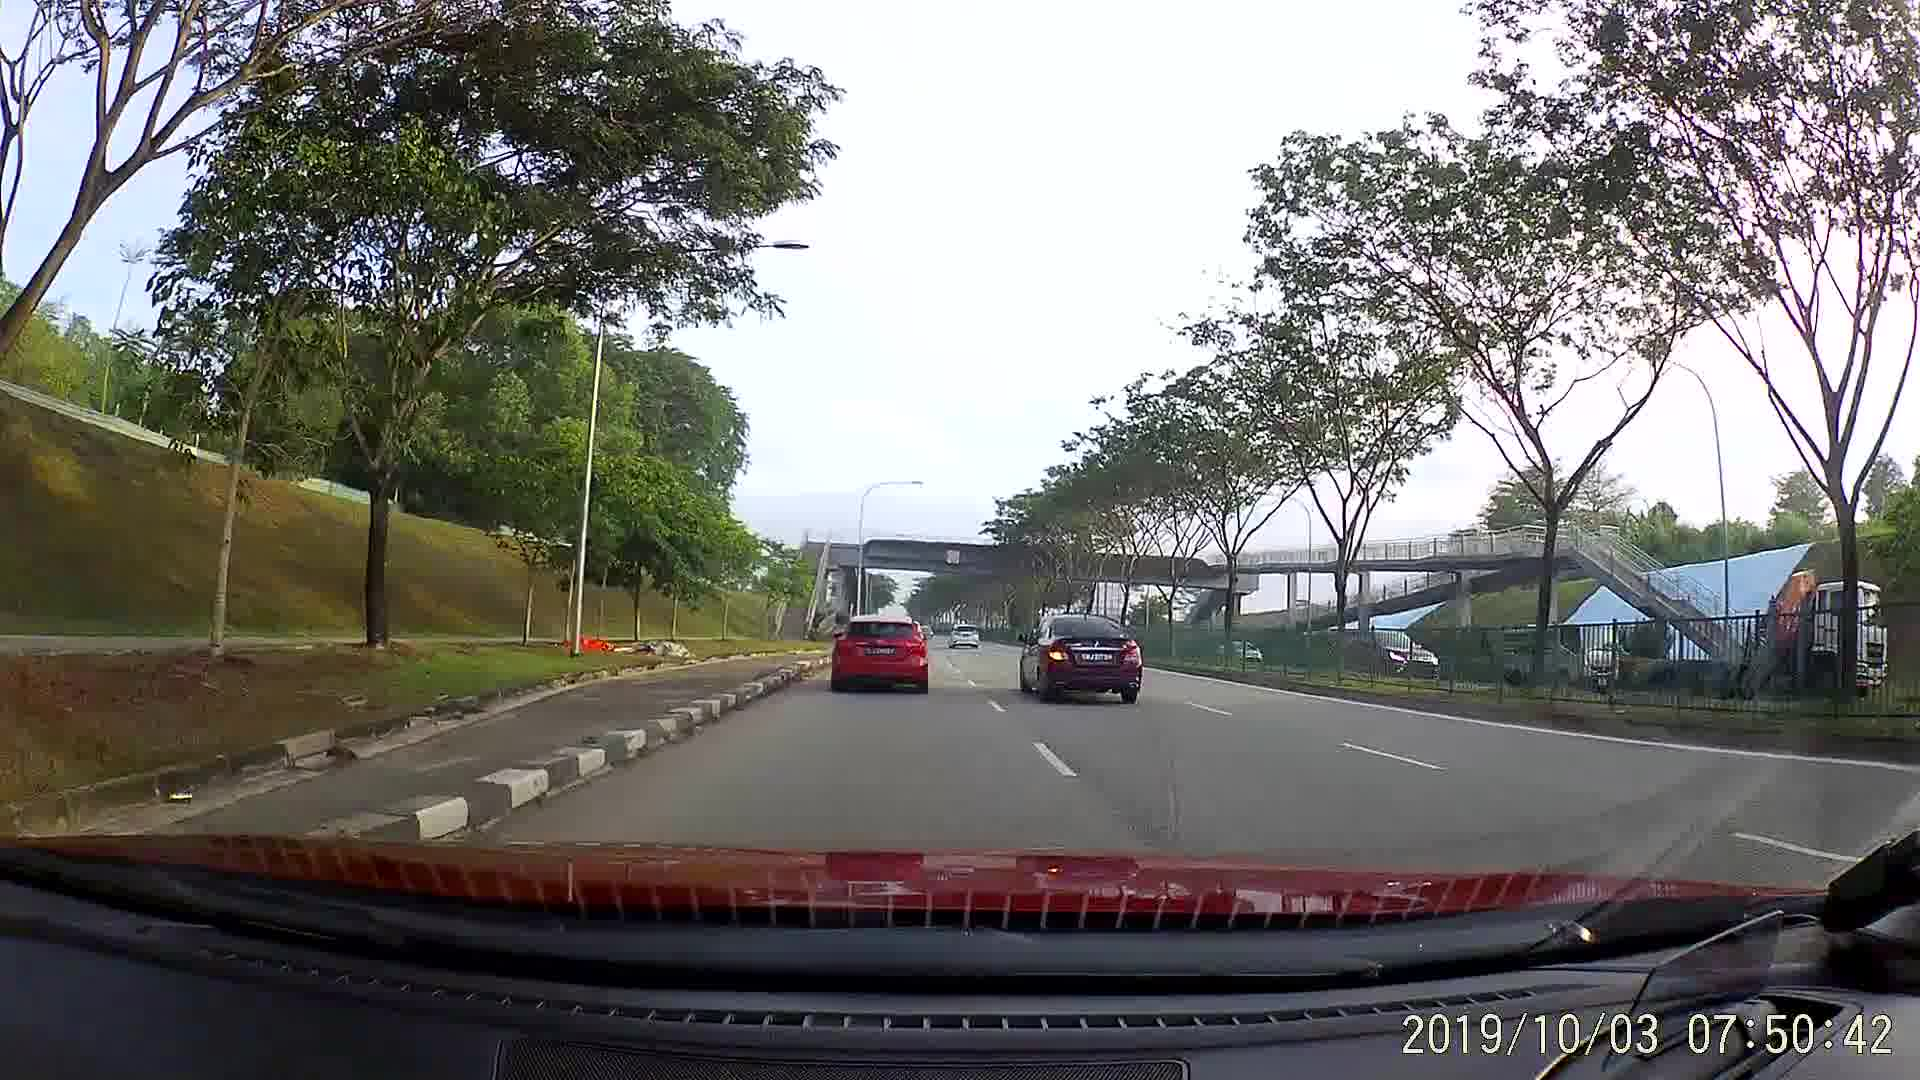car: (1014, 611, 1143, 702), (828, 615, 931, 699), (1341, 625, 1437, 687), (1211, 632, 1270, 673), (944, 622, 982, 655)
